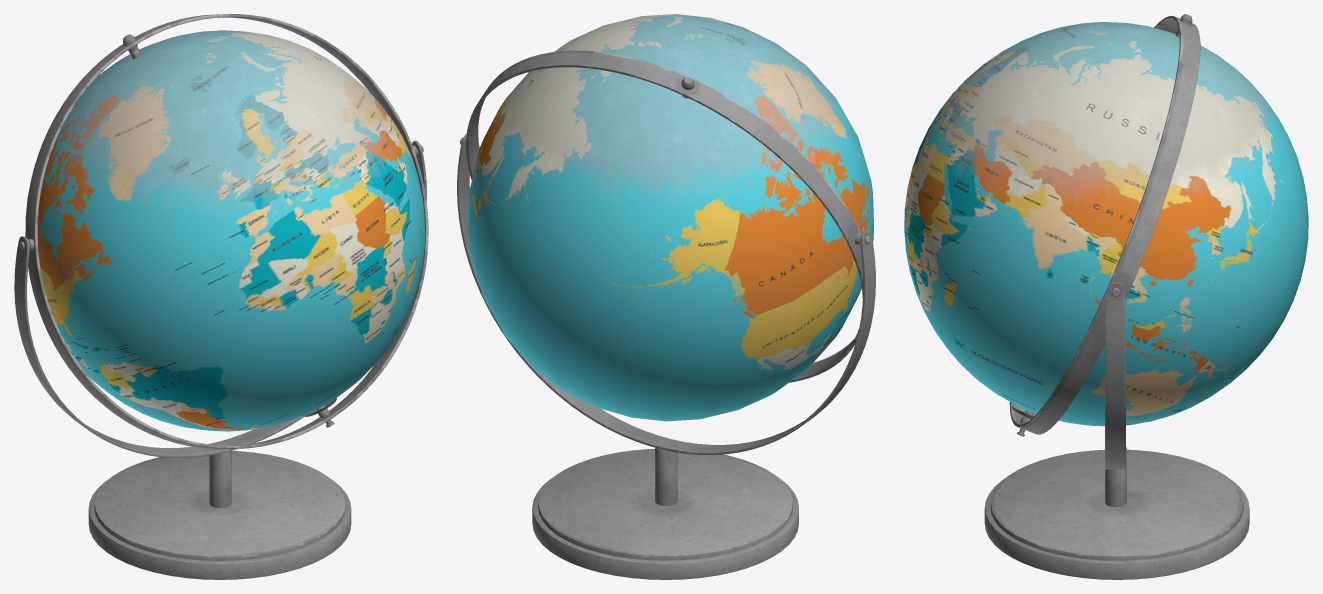
The model's file is globe.glb.
3 renders of one model, left to right at view 1: azimuth 30°, elevation 25°; view 2: azimuth 150°, elevation 25°; view 3: azimuth 270°, elevation 25°, orthographic.
Parts seen in each view (by area): view 1: Globe; view 2: Globe; view 3: Globe.
Boxes of the visible parts, x1=… form: Globe: x1=14, y1=14, x2=428, y2=579; Globe: x1=457, y1=14, x2=875, y2=579; Globe: x1=904, y1=14, x2=1308, y2=579.
Size of the model in its own units: 1.75 by 2 by 1.51.
Materials: 1 (1 with a texture image).
